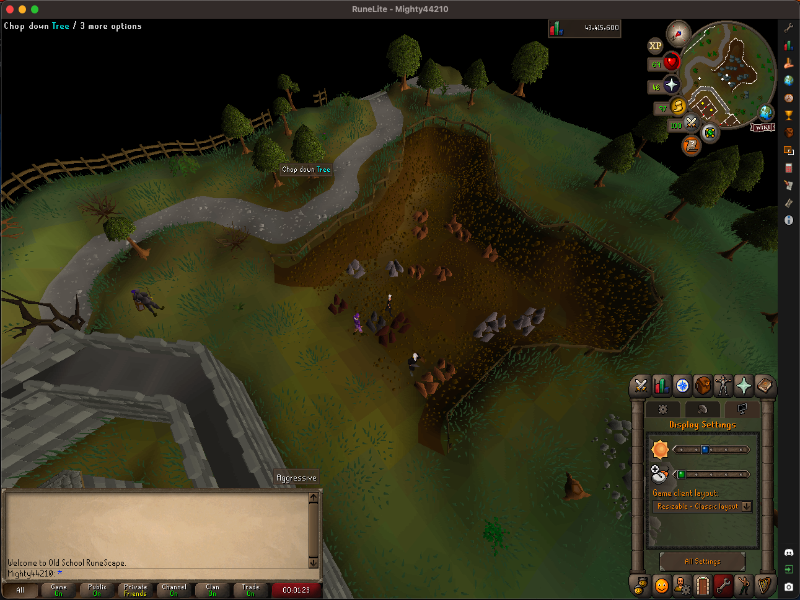iron: (379, 328, 395, 344), (395, 317, 411, 333), (329, 299, 343, 313)
